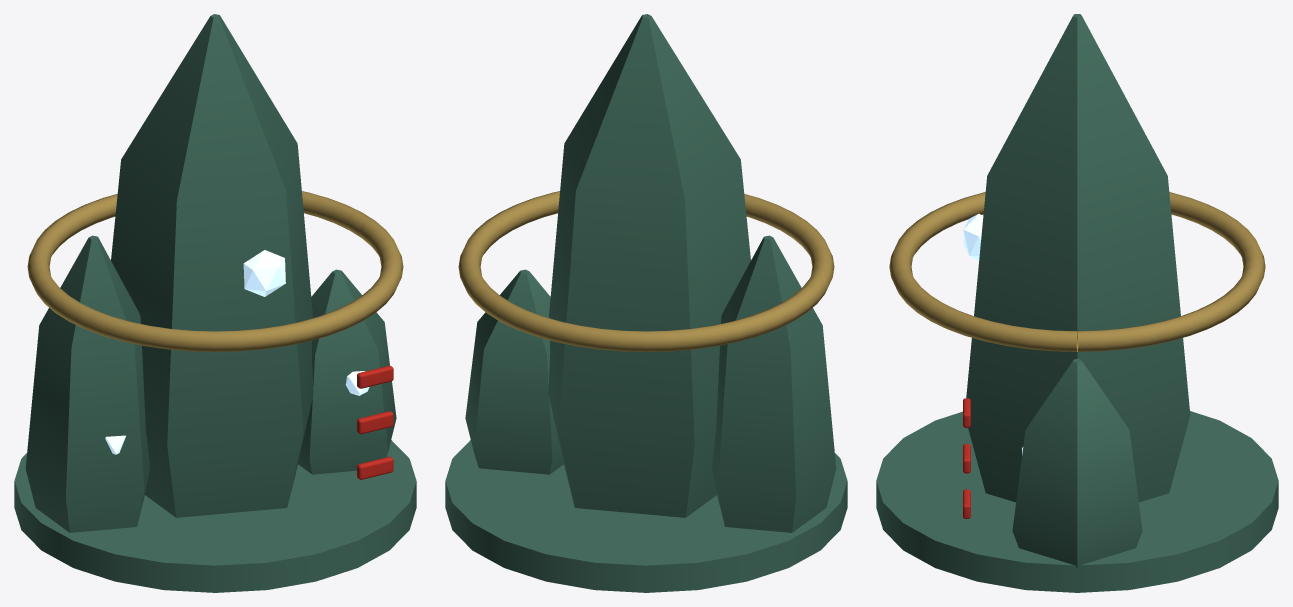
3 views of the same model, side by side, from view 1: azimuth 30°, elevation 25°; view 2: azimuth 150°, elevation 25°; view 3: azimuth 270°, elevation 25° (orthographic).
Parts seen in each view (by area): view 1: Faceted crystal tower, Foundation drum, Faceted crystal tower.002, Crystal conductive halo, Faceted crystal tower.001, Central luminous node, Crystal red identifying inset.001, Crystal red identifying inset, Crystal red identifying inset.002; view 2: Faceted crystal tower, Foundation drum, Faceted crystal tower.002, Crystal conductive halo, Faceted crystal tower.001; view 3: Faceted crystal tower, Foundation drum, Faceted crystal tower.001, Crystal conductive halo, Central luminous node.
Boxes of the visible parts, x1,y1,x2,y2 form: Faceted crystal tower: (111, 14, 313, 517); Foundation drum: (14, 440, 416, 592); Faceted crystal tower.002: (25, 235, 150, 532); Crystal conductive halo: (27, 191, 403, 351); Faceted crystal tower.001: (298, 269, 396, 474); Central luminous node: (243, 250, 285, 296); Crystal red identifying inset.001: (357, 411, 393, 434); Crystal red identifying inset: (357, 456, 393, 479); Crystal red identifying inset.002: (357, 365, 393, 388); Faceted crystal tower: (548, 14, 750, 517); Foundation drum: (445, 440, 847, 592); Faceted crystal tower.002: (711, 235, 836, 532); Crystal conductive halo: (458, 191, 834, 351); Faceted crystal tower.001: (465, 269, 563, 474); Faceted crystal tower: (966, 14, 1190, 502); Foundation drum: (876, 411, 1278, 592); Faceted crystal tower.001: (1012, 359, 1142, 568); Crystal conductive halo: (889, 192, 1265, 351); Central luminous node: (963, 213, 983, 260).
Bounding box in the file's own units: 2.04 × 2.7 × 2.
